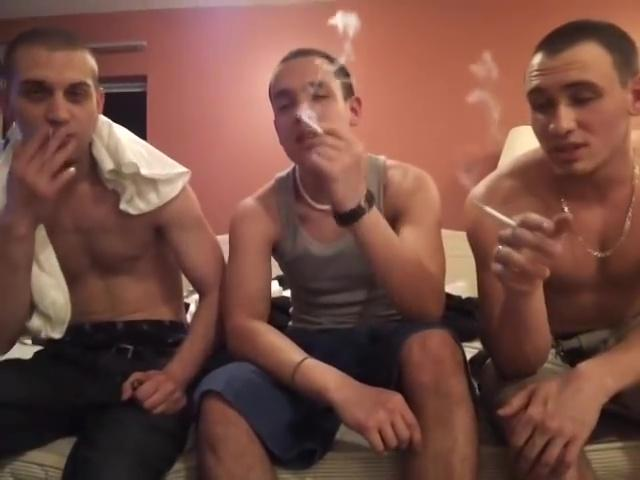cigarette: (475, 199, 523, 231), (296, 116, 330, 140), (43, 126, 57, 144)
